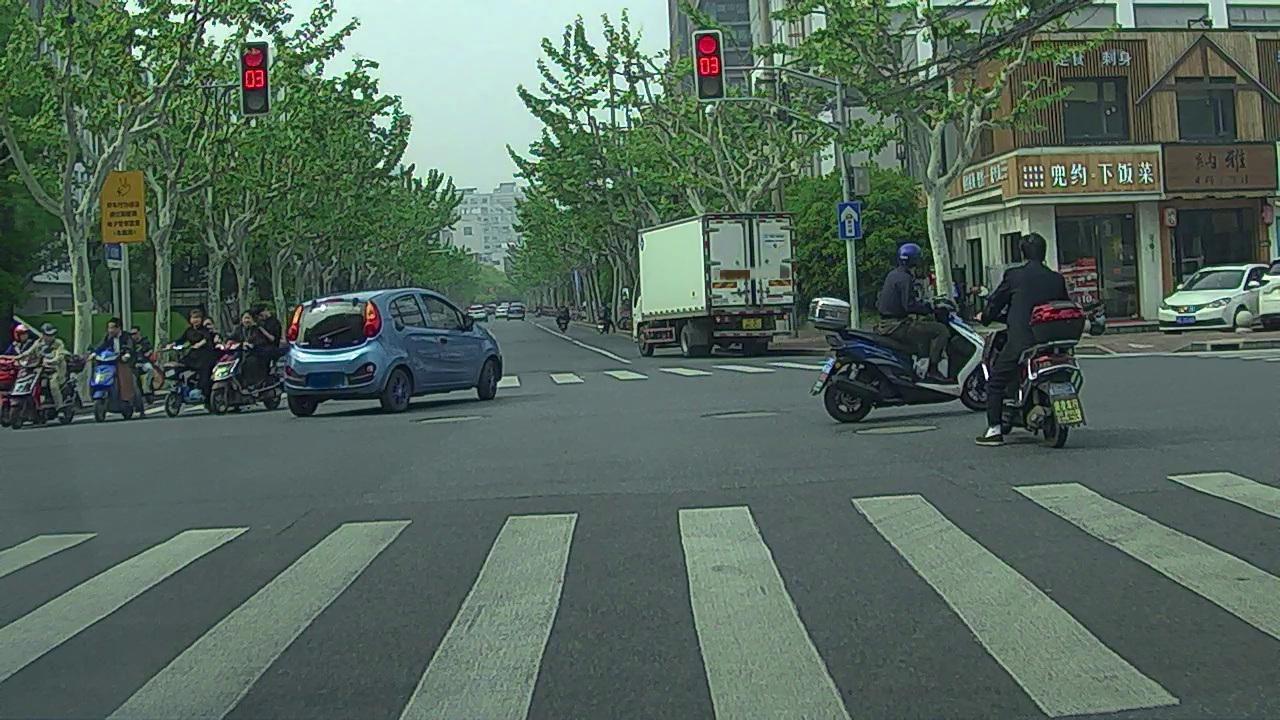traffic_light: (241, 42, 269, 115), (695, 30, 724, 98)
